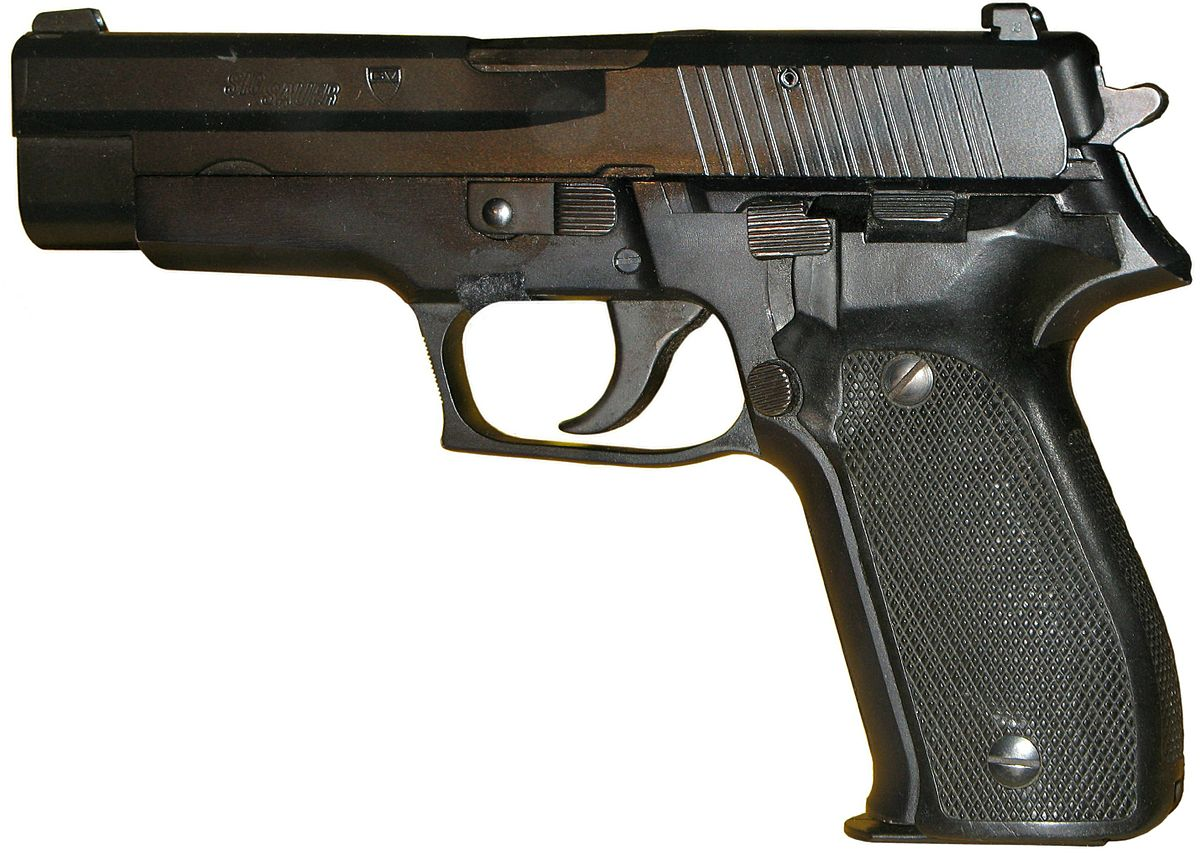Weapon: (8, 7, 1195, 852)
